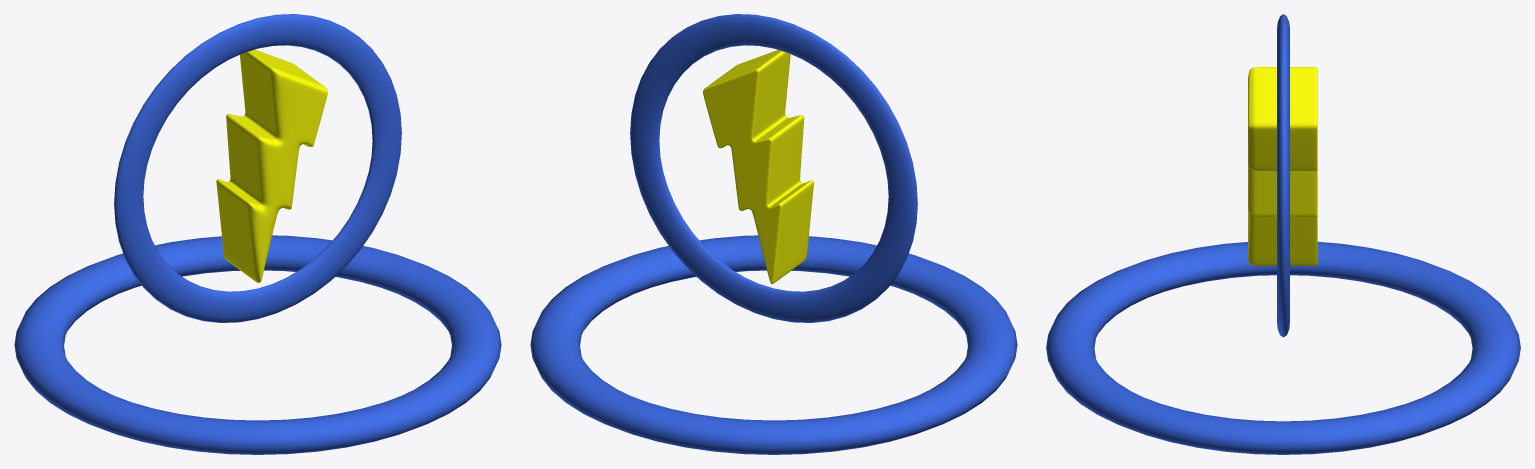
Rendered from rayo.fbx.
3 views of the same model, side by side, from view 1: azimuth 30°, elevation 25°; view 2: azimuth 150°, elevation 25°; view 3: azimuth 270°, elevation 25° (orthographic). The views are drawn at different scales.
Parts seen in each view (by area): view 1: Rosca.006, Mesh; view 2: Rosca.006, Mesh; view 3: Rosca.006, Mesh.
Part boxes in pixels (box(x1,y1,x2,y2)): Rosca.006: box(14, 14, 501, 454); Mesh: box(216, 49, 327, 282); Rosca.006: box(530, 14, 1017, 454); Mesh: box(703, 50, 813, 284); Rosca.006: box(1046, 14, 1520, 454); Mesh: box(1248, 67, 1317, 265).
Bounding box in the file's own units: 6.1 × 4.71 × 6.1.
